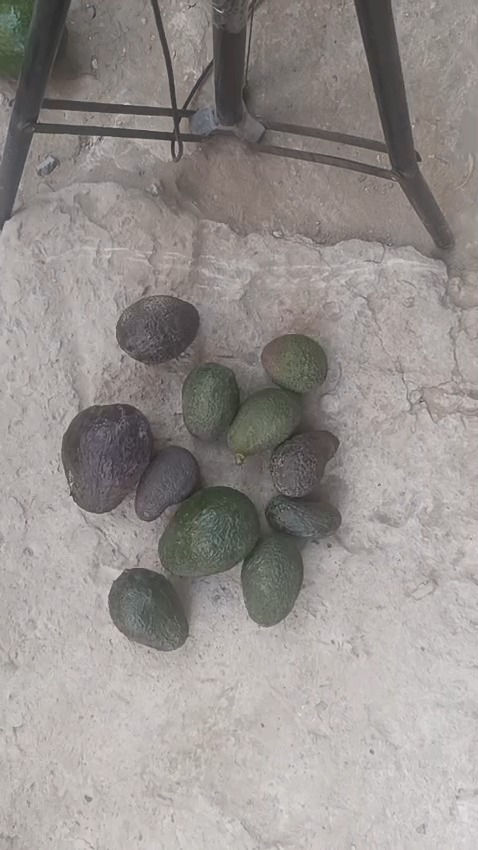Primera: (61, 405, 152, 516), (162, 488, 263, 580)
Segunda: (107, 568, 187, 651), (242, 534, 304, 627), (120, 299, 203, 367)
Tercera: (230, 391, 305, 460), (135, 446, 201, 522), (267, 432, 340, 498), (182, 363, 240, 443), (262, 333, 331, 396), (265, 497, 341, 543)
